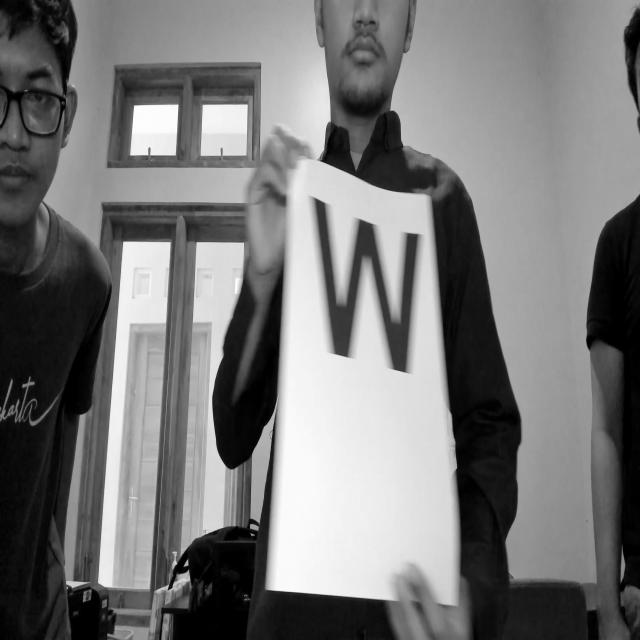w: (298, 182, 442, 391)
